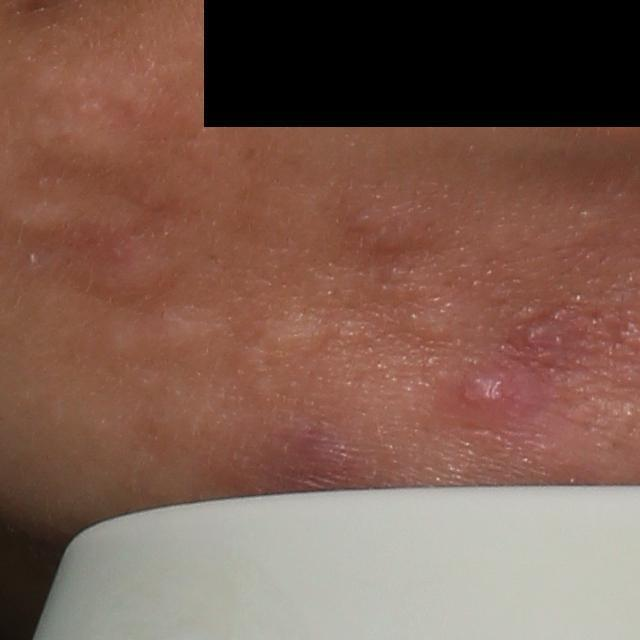hypertrophic_scar: (26, 108, 150, 178), (348, 197, 445, 258), (249, 312, 331, 369), (152, 309, 215, 363), (94, 317, 140, 367), (403, 306, 465, 343)
